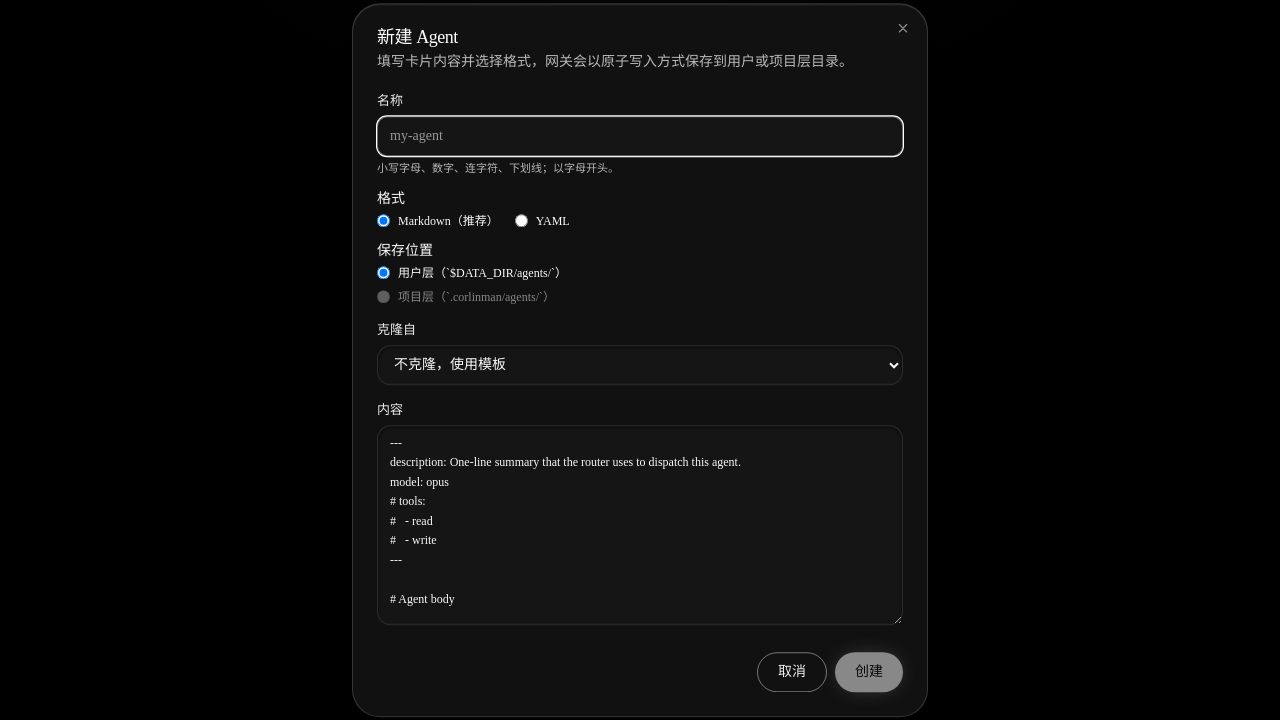
Test: CreateAgentModal — submission flow › renders the name conflict error on a 400 response
In the field with test id "agent-name": (640, 136) [377,116,903,156], type "dupe"
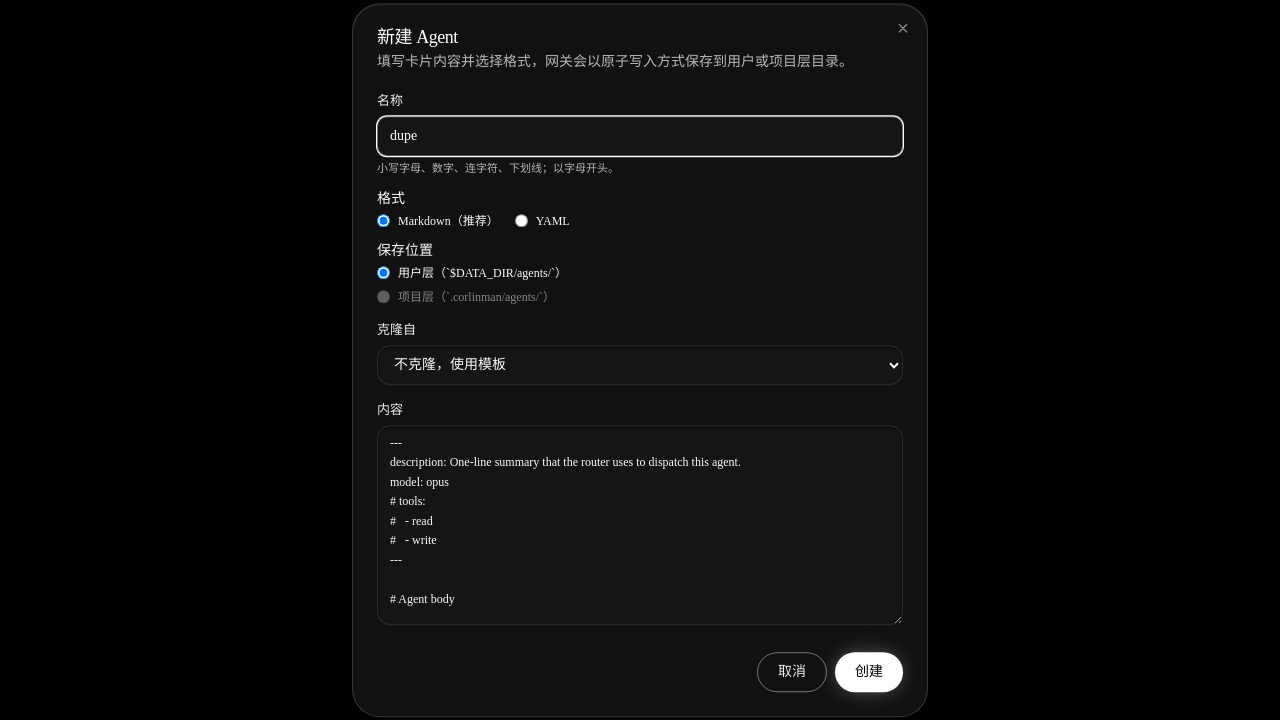
Click the button with test id "create-agent-submit": (869, 672) [835,652,903,692]
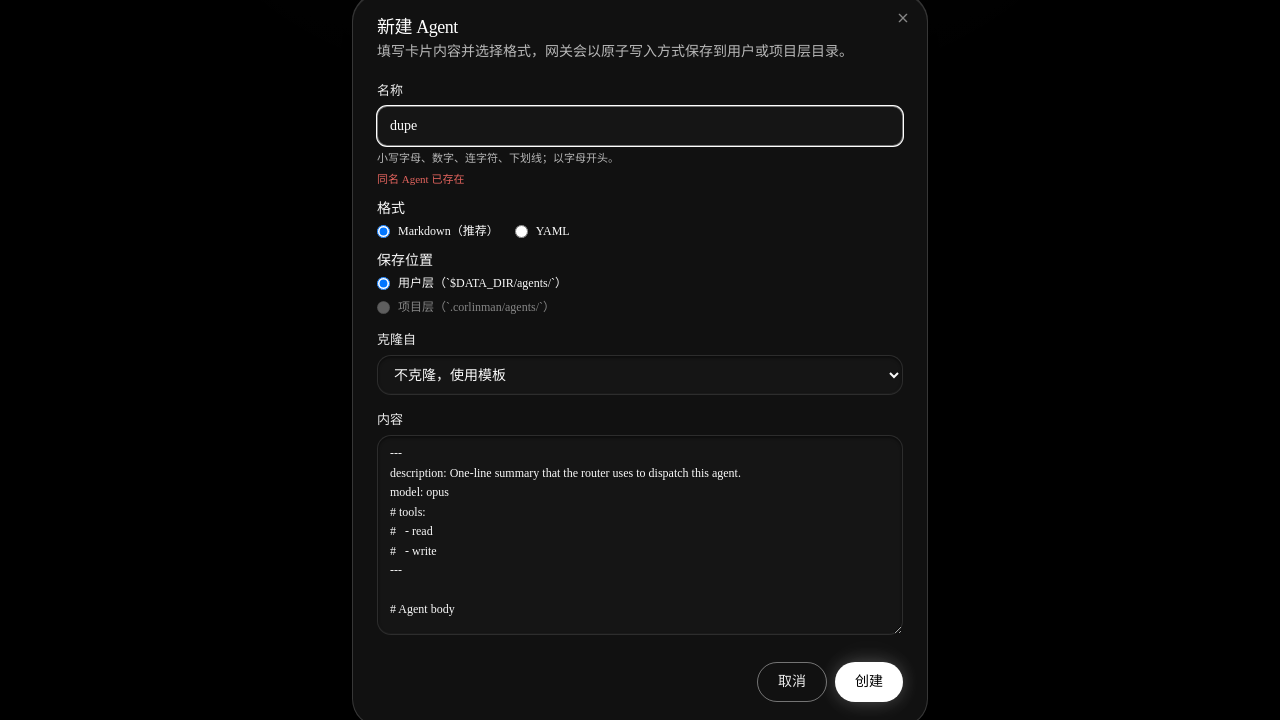
expect the message "同名 Agent 已存在" is shown: met, box [377,172,464,184]
